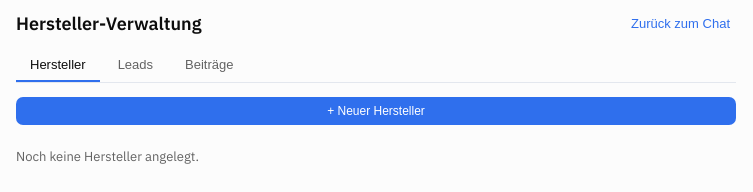
AdminPane › shows leads (with the briefing) on the Leads tab
Click the tab with test id "tab-leads" at (135, 66), box [104,49,167,82]
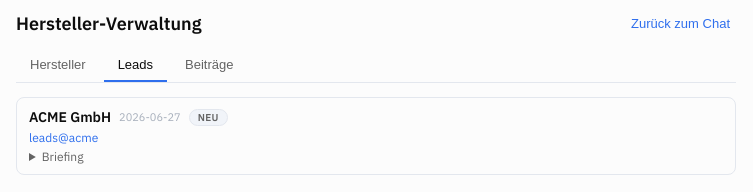
Check: the list item with test id "lead-1" is shown, box [16,97,736,175]
